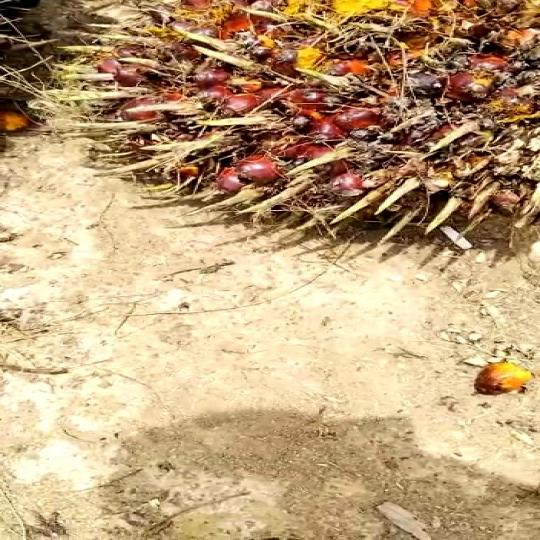masak: (46, 0, 538, 255)
